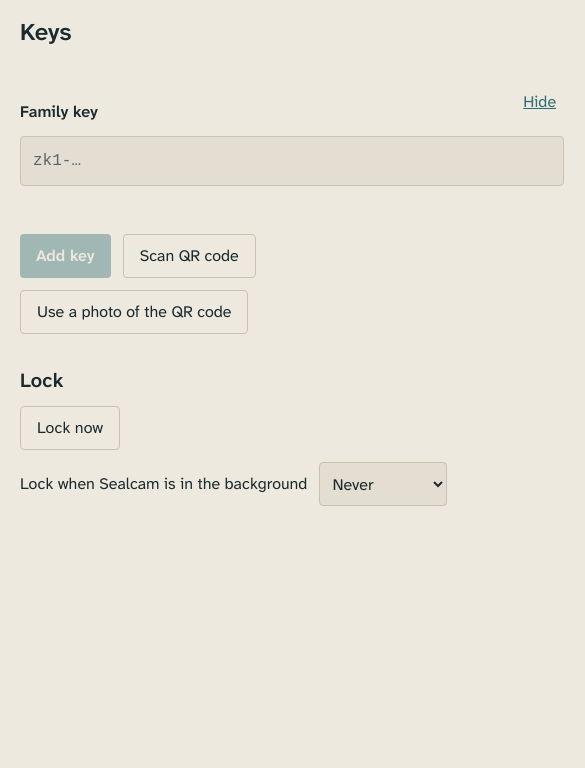
Test: lock › lock message for a remembered key
Type "zk1-000102030405060708090a0b0c0d0e0f101112131415161718191a1b1c1d1e1f-2418" into the field labelled "Family key" at (292, 161), box [20, 136, 564, 186]
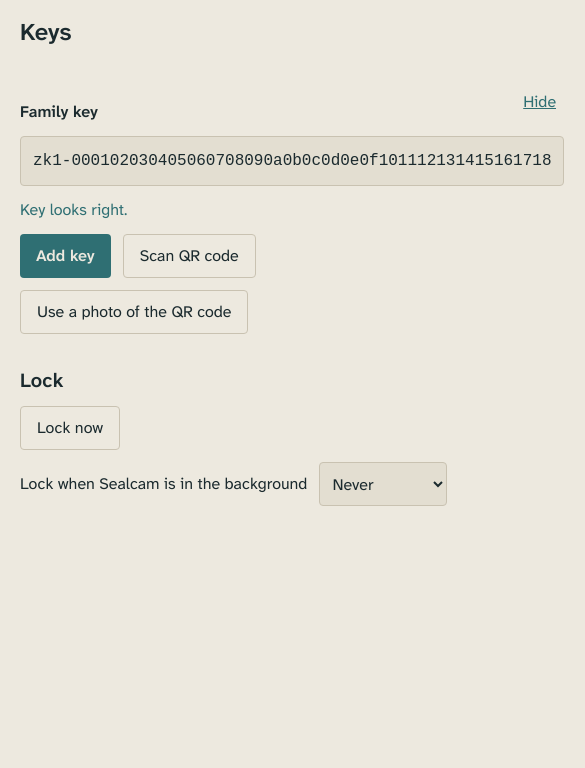
Click the button "Add key" at (65, 256), box [20, 234, 111, 278]
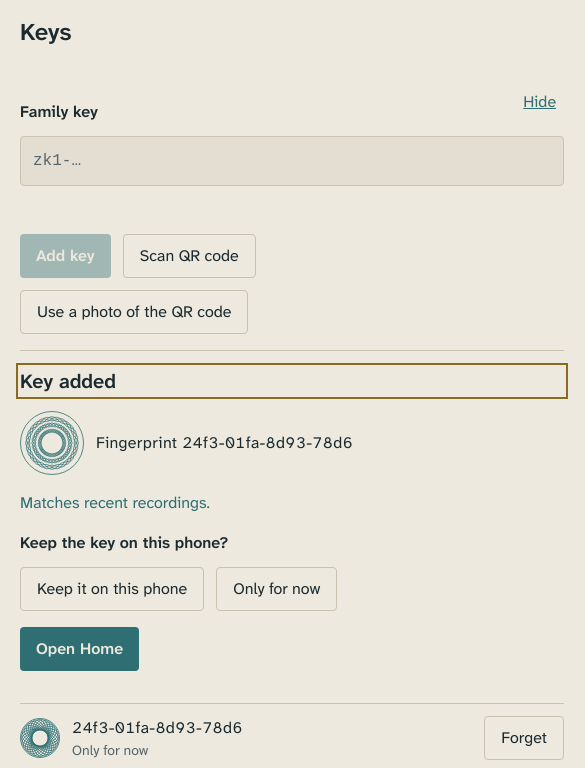
Result: the heading "Key added" is shown at [20, 368, 116, 394]
Click the button "Keep it on this phone" at (112, 589), box [20, 567, 204, 611]
(page scrolled)
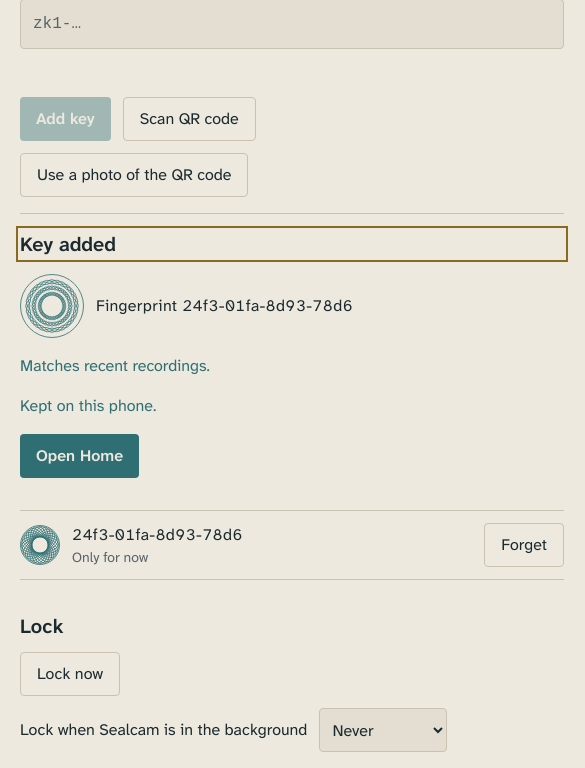
Click the button "Lock now" at (70, 674), box [20, 652, 120, 696]
(page scrolled)
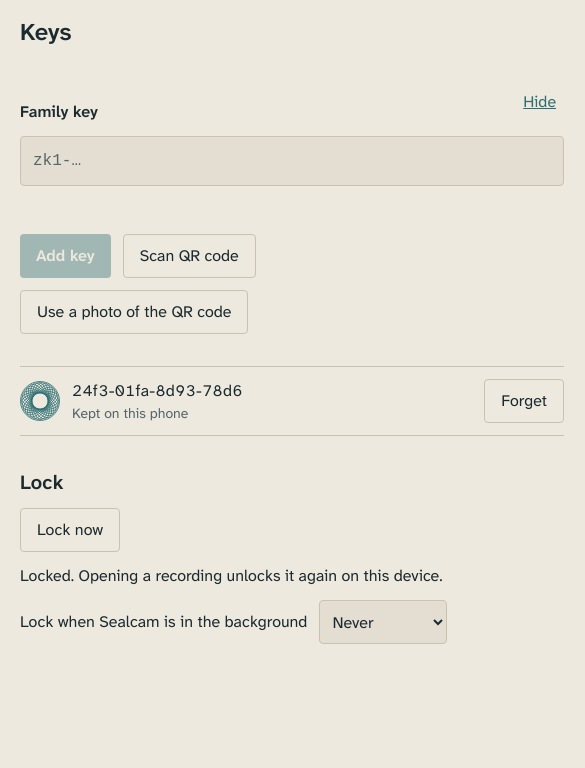
Result: the text "Locked. Opening a recording unlocks it again on this device." is shown at [20, 565, 442, 586]
